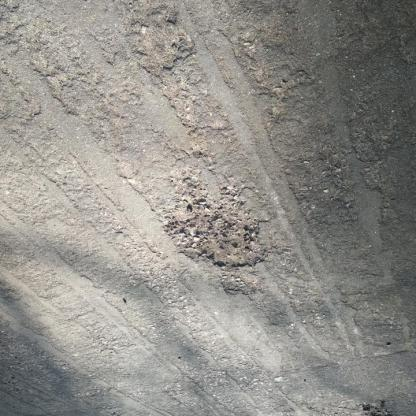pothole: (156, 185, 272, 273), (220, 274, 257, 299)
